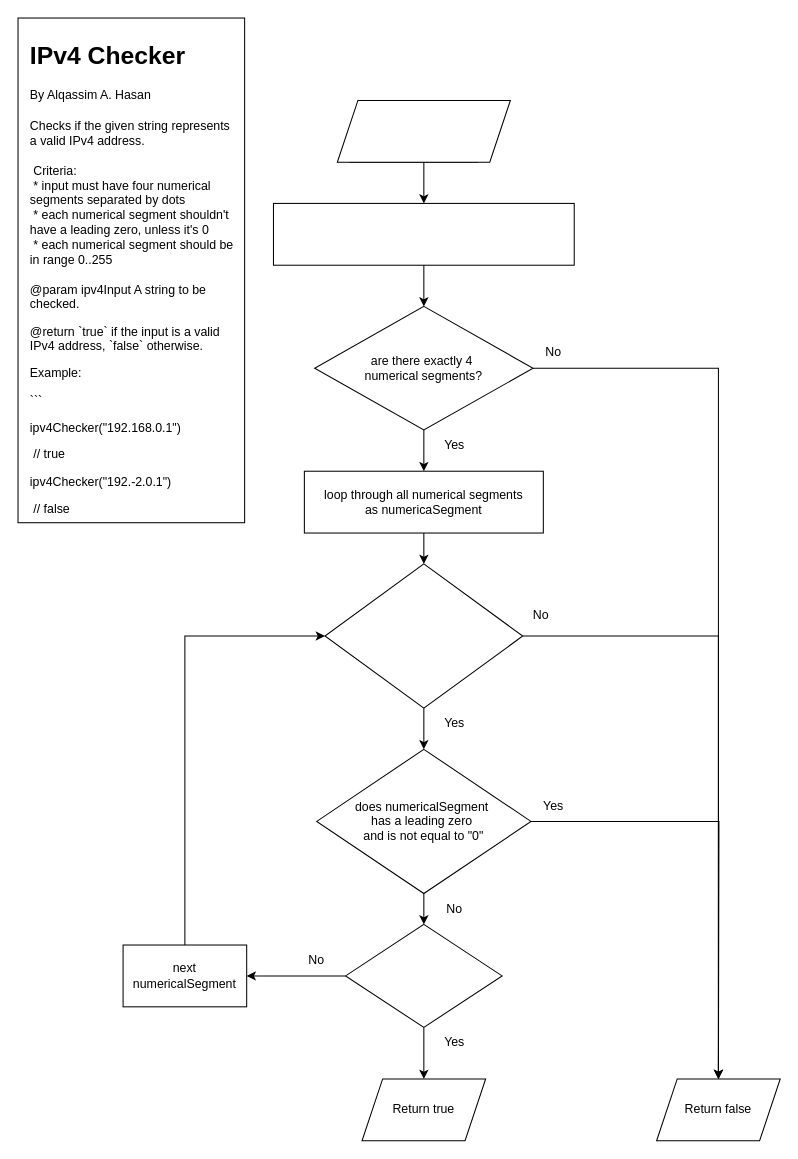
Some shapes in this 798 by 1159 pixel diagram are drawn without their labels. Here are the shapes that lost their labels. From the top down, the centre of each, then its label:
(423,130): input parameters ipv4Input : String
(423,233): make an array of numericalSegments through spliting ipv4Input at every "."
(423,635): is it posible to cast the numericalSegment to a UByte ?
(423,975): finished the loop?
